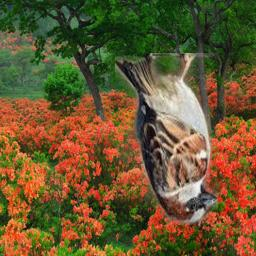Sparrow: (115, 53, 218, 225)
